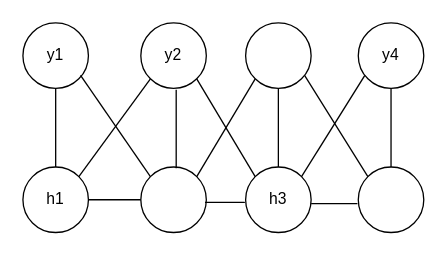
The diagram is 447 pixels wide and 255 high, and some of its shapes have lost their labels. Here are the shapes that lost their labels. From the top down, the centre of each, then its label:
the point at 277,55: y3
the point at 173,199: h2
the point at 390,199: h4
